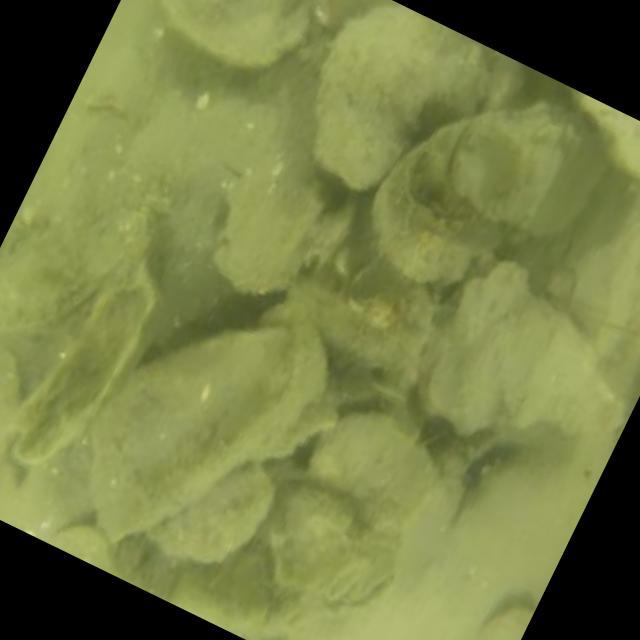Oyster-Closed: (91, 304, 337, 552), (6, 218, 157, 466), (426, 254, 627, 434), (205, 55, 352, 300), (309, 7, 487, 187), (289, 203, 431, 373), (369, 120, 502, 285), (453, 102, 606, 235), (305, 415, 439, 528), (144, 466, 282, 560)
